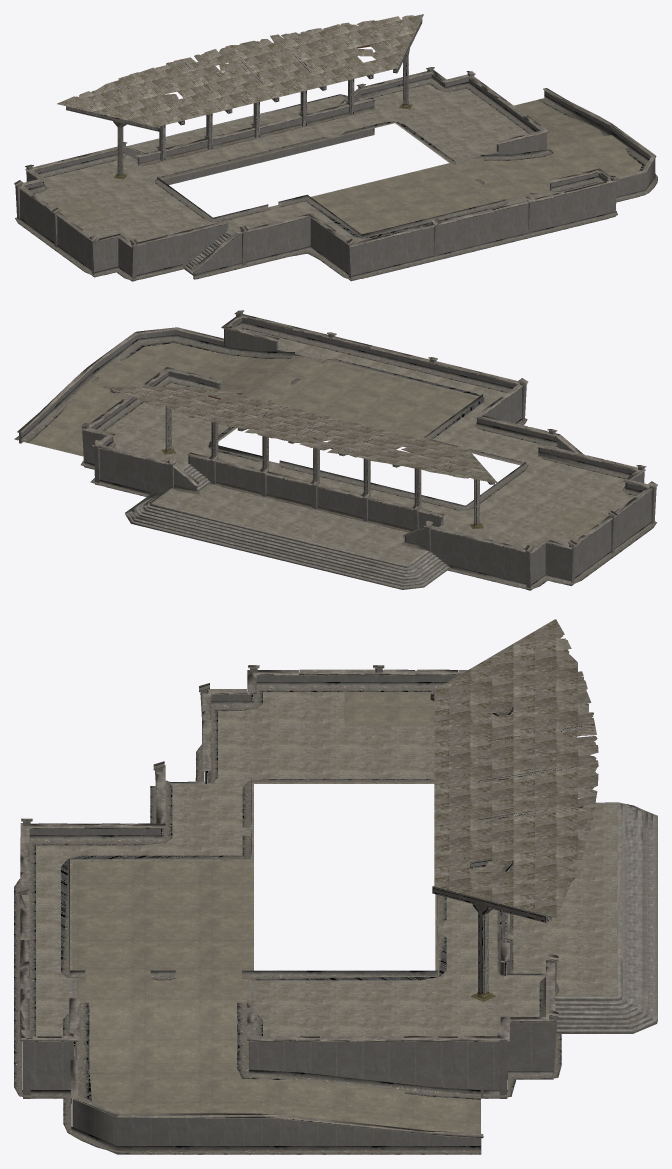
Rendered from office_bld_base_a.glb.
The picture shows the model from 3 angles, top to bottom: view 1: azimuth 30°, elevation 25°; view 2: azimuth 150°, elevation 25°; view 3: azimuth 270°, elevation 25°; orthographic projection. The views are drawn at different scales.
Visible parts, largest first — view 1: office_bld_base_a_LOD0; view 2: office_bld_base_a_LOD0; view 3: office_bld_base_a_LOD0.
Part boxes in pixels (x1=…): office_bld_base_a_LOD0: x1=14, y1=14, x2=657, y2=281; office_bld_base_a_LOD0: x1=14, y1=310, x2=657, y2=590; office_bld_base_a_LOD0: x1=14, y1=619, x2=657, y2=1154.
Bounding box in the file's own units: 67.45 × 11.85 × 42.56.
Materials: 9 (9 with a texture image).
